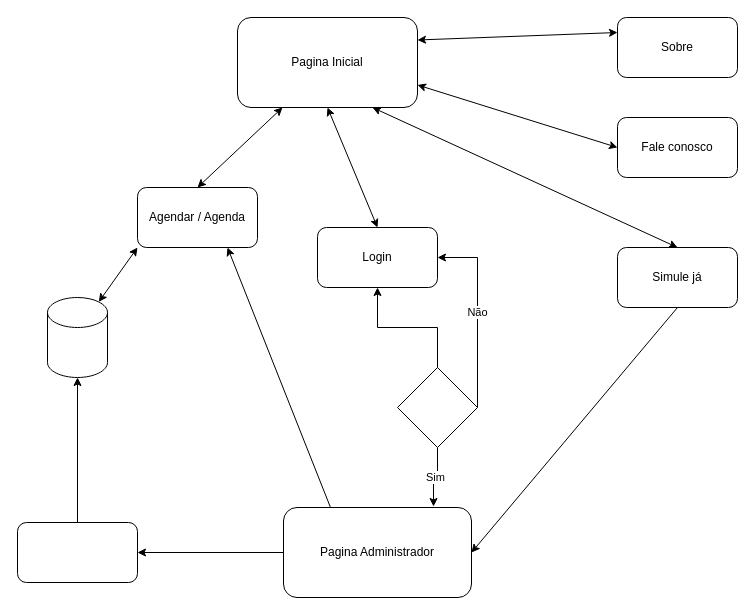
Image size: 755x615. Some labels were removed from this diagram. The shapes that lost their labels are listed below. From the top down, each one's box as (x1, y1, x2, y2) in pixels, then its label:
(46, 296, 108, 378): BD
(396, 366, 478, 448): Validar Permisão
(16, 522, 138, 582): Cadastrar Cliente
